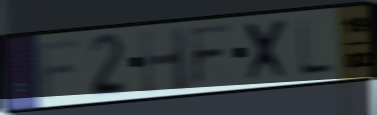2: (87, 31, 129, 101)
F: (188, 21, 236, 90), (36, 37, 83, 101)
H: (138, 25, 193, 97)
L: (296, 16, 336, 78)
X: (243, 16, 293, 84)
